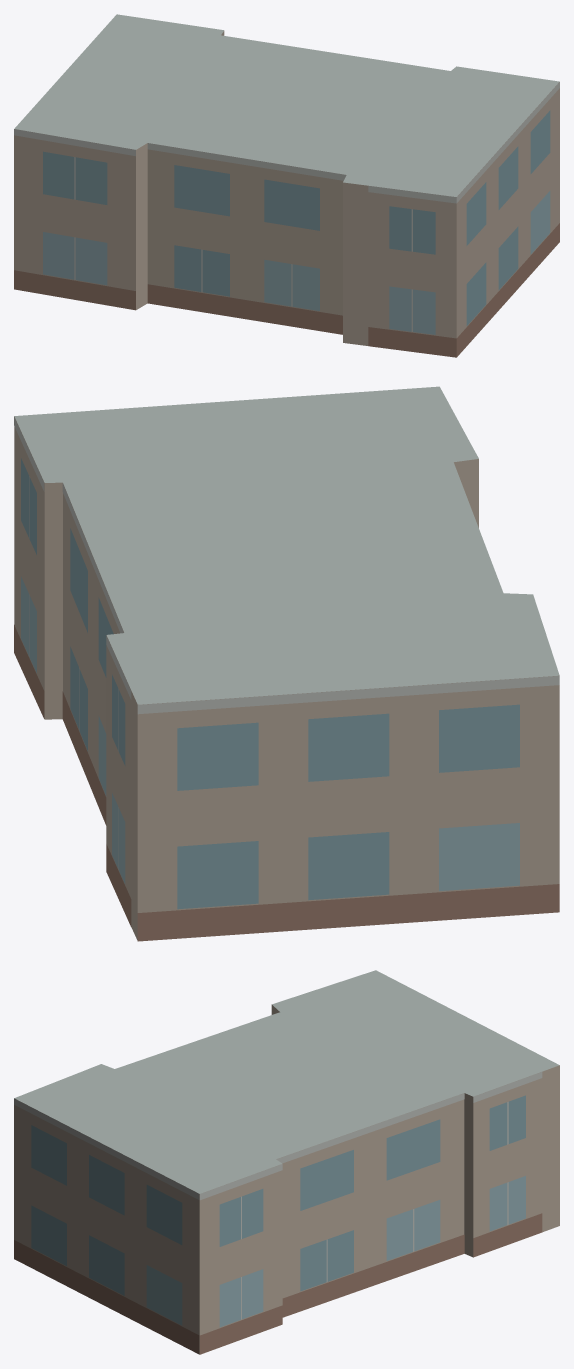
The model's file is survey-upis-32642145.glb.
The picture shows the model from 3 angles, top to bottom: view 1: azimuth 30°, elevation 25°; view 2: azimuth 150°, elevation 25°; view 3: azimuth 270°, elevation 25°; orthographic projection. The views are drawn at different scales.
Visible parts, largest first — view 1: survey-upis-32642145.tmp; view 2: survey-upis-32642145.tmp; view 3: survey-upis-32642145.tmp.
Part boxes in pixels (x1,y1,x2,y2): survey-upis-32642145.tmp: [14, 14, 559, 357]; survey-upis-32642145.tmp: [14, 386, 559, 941]; survey-upis-32642145.tmp: [14, 970, 559, 1354].
Size of the model in its own units: 18.22 by 6.1 by 18.78.
